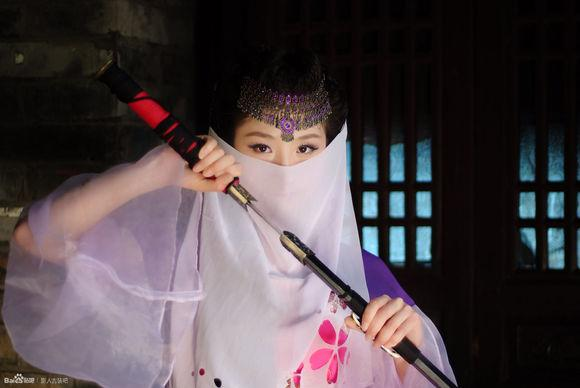OK: (238, 117, 330, 209)
